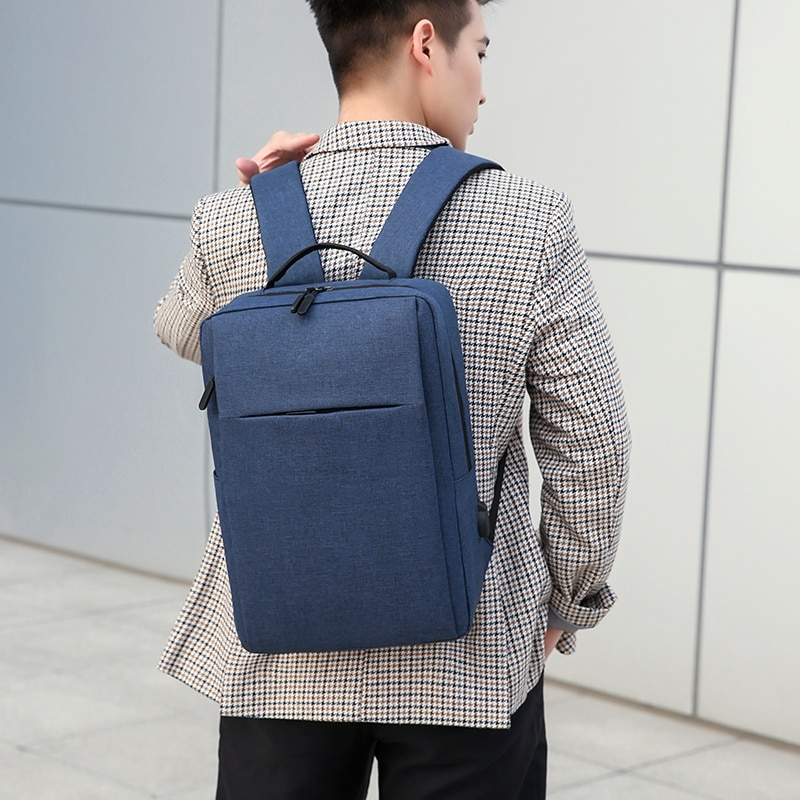Men's Backpacks: (197, 145, 506, 661)
Tops: (150, 121, 629, 725)
